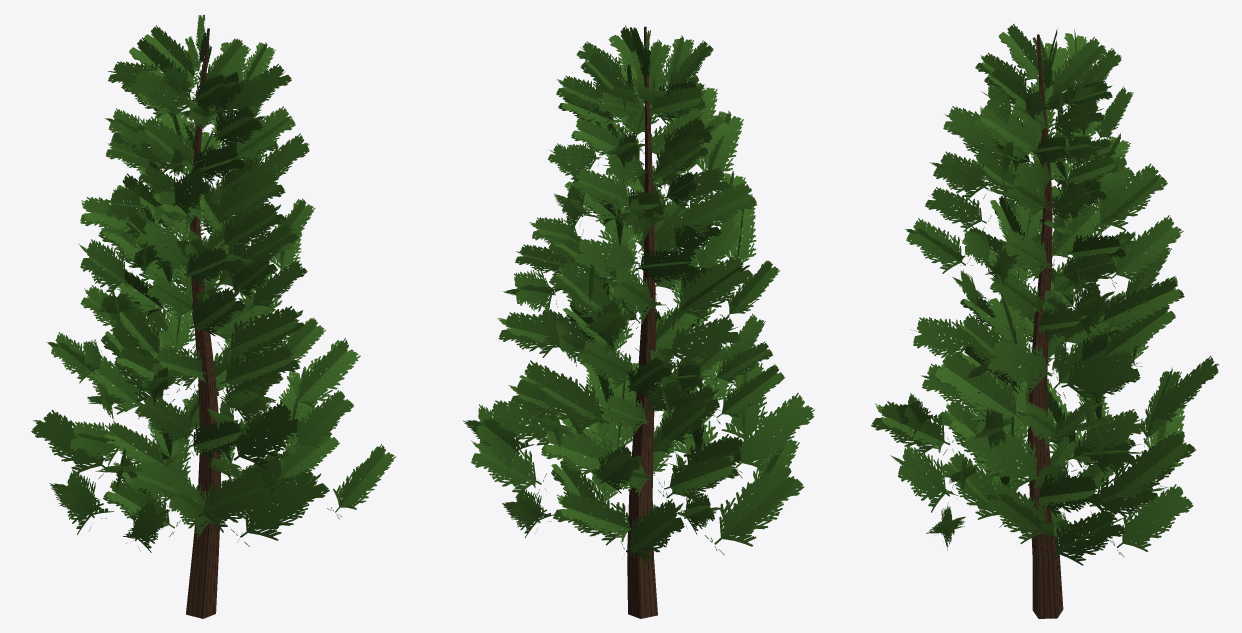
The model's file is Pine_LOD2.fbx.
3 renders of one model, left to right at view 1: azimuth 30°, elevation 25°; view 2: azimuth 150°, elevation 25°; view 3: azimuth 270°, elevation 25°, orthographic.
Visible parts, largest first — view 1: Pine_LOD2; view 2: Pine_LOD2; view 3: Pine_LOD2.
Part boxes in pixels (bbox=[...]): Pine_LOD2: bbox=[31, 14, 396, 618]; Pine_LOD2: bbox=[463, 25, 814, 618]; Pine_LOD2: bbox=[871, 24, 1219, 618].
Size of the model in its own units: 587 by 1015 by 579.
2 materials, 2 textured.
